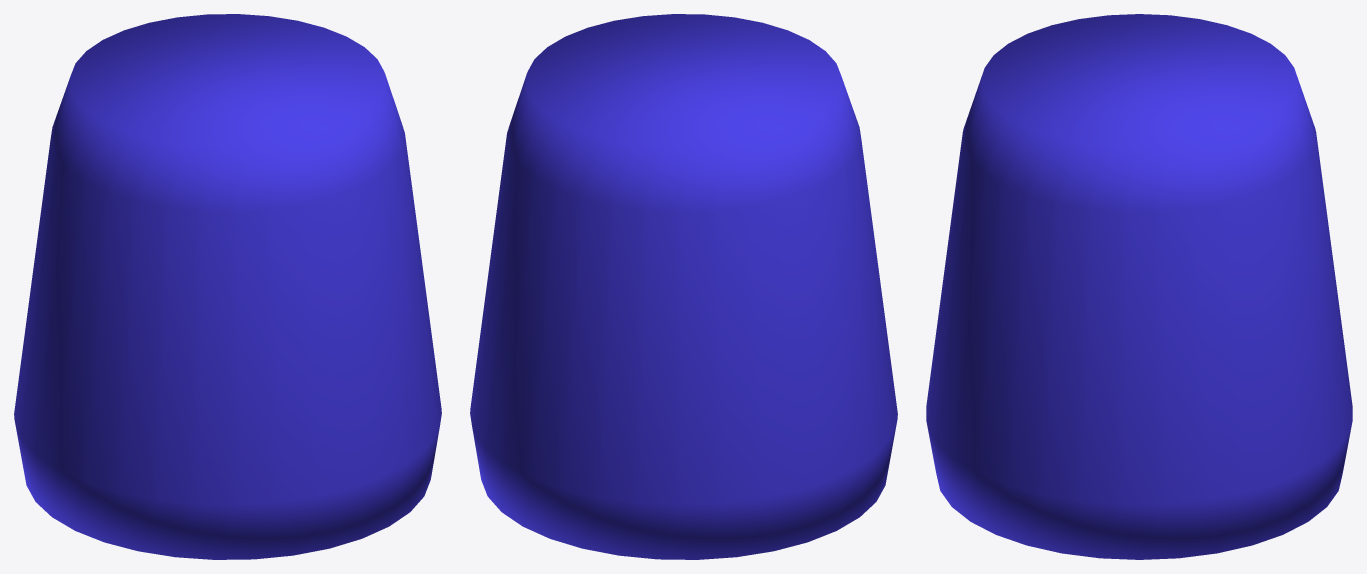
Rendered from quo_plBlue.fbx.
3 views of the same model, side by side, from view 1: azimuth 30°, elevation 25°; view 2: azimuth 150°, elevation 25°; view 3: azimuth 270°, elevation 25° (orthographic).
Parts seen in each view (by area): view 1: 円柱.001; view 2: 円柱.001; view 3: 円柱.001.
Part boxes in pixels (<box>): 円柱.001: <box>14,14,441,559</box>; 円柱.001: <box>470,14,897,559</box>; 円柱.001: <box>926,14,1352,559</box>.
Size of the model in its own units: 0.3361 by 0.3421 by 0.3361.
